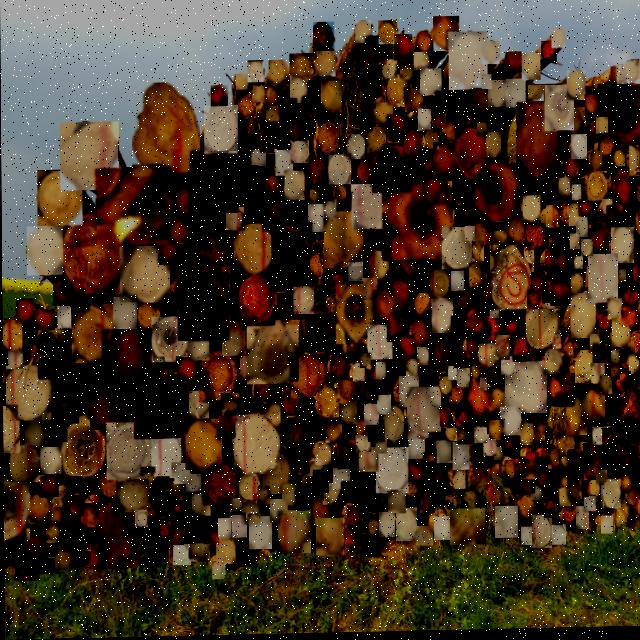wood-log: (132, 84, 200, 176), (96, 168, 171, 245), (382, 183, 452, 262), (62, 214, 123, 296), (61, 122, 117, 191), (179, 271, 228, 341), (102, 330, 154, 393), (135, 375, 186, 439), (247, 321, 297, 385), (91, 503, 137, 569), (517, 105, 557, 178), (490, 247, 534, 312), (271, 224, 312, 293), (192, 153, 238, 214), (120, 247, 170, 303), (61, 416, 105, 479), (598, 88, 640, 154), (234, 416, 280, 476), (106, 423, 150, 480), (71, 305, 114, 363), (474, 167, 518, 223), (37, 171, 82, 225), (6, 366, 50, 421), (336, 286, 375, 344), (192, 217, 233, 272), (449, 34, 486, 92), (324, 213, 362, 269), (505, 364, 545, 416), (234, 225, 272, 276), (372, 145, 411, 194), (200, 352, 237, 402), (406, 389, 441, 441), (185, 420, 221, 470), (239, 276, 274, 327), (455, 129, 487, 183), (27, 227, 63, 274), (152, 318, 188, 363), (3, 478, 29, 540), (204, 107, 238, 154), (291, 354, 325, 400), (526, 306, 559, 352), (203, 463, 238, 506), (61, 360, 95, 404), (351, 186, 384, 231), (375, 449, 408, 494), (588, 257, 618, 306), (277, 512, 310, 555), (442, 229, 475, 271), (545, 87, 574, 133), (90, 387, 121, 430), (151, 436, 180, 479), (450, 511, 484, 547), (117, 476, 150, 513), (306, 316, 335, 357), (9, 445, 39, 483), (571, 295, 595, 341), (263, 455, 290, 494), (611, 171, 636, 212), (60, 518, 91, 550), (603, 431, 629, 469), (316, 519, 342, 556), (615, 394, 640, 432), (429, 337, 455, 372), (367, 326, 392, 361), (2, 406, 20, 452), (464, 384, 487, 420), (382, 408, 405, 443), (582, 393, 605, 428), (113, 297, 138, 329), (433, 146, 457, 179), (611, 230, 633, 266), (548, 377, 574, 407), (431, 300, 453, 335), (248, 518, 271, 551), (583, 447, 604, 483), (175, 189, 198, 221), (434, 19, 457, 51), (494, 508, 517, 540), (222, 324, 244, 357), (566, 400, 585, 438), (282, 418, 305, 449), (262, 203, 286, 232), (316, 123, 337, 156), (389, 283, 412, 313), (328, 156, 350, 186), (575, 353, 595, 386), (396, 511, 416, 543), (238, 474, 260, 503), (29, 494, 50, 524), (321, 83, 342, 113), (306, 159, 326, 190), (398, 378, 418, 409), (387, 76, 407, 107), (424, 178, 445, 207), (137, 304, 160, 330), (44, 413, 66, 440), (532, 518, 550, 551), (551, 277, 570, 308), (98, 470, 119, 498), (293, 288, 314, 316), (365, 39, 386, 67), (500, 409, 521, 437), (369, 253, 389, 282), (373, 293, 393, 322), (600, 482, 620, 511), (420, 71, 442, 97), (502, 311, 524, 337), (281, 390, 300, 420), (290, 55, 311, 82), (512, 337, 533, 364), (246, 186, 266, 214), (506, 82, 526, 110), (2, 320, 20, 351), (14, 557, 38, 580), (32, 329, 54, 354), (237, 159, 258, 185), (479, 319, 500, 345), (26, 532, 46, 559), (24, 419, 44, 446), (216, 538, 236, 565), (177, 358, 197, 385), (319, 389, 337, 419), (357, 375, 377, 402), (430, 272, 450, 299), (426, 465, 446, 492), (588, 174, 606, 204), (40, 448, 61, 473), (189, 391, 207, 420), (285, 172, 303, 201), (396, 337, 414, 366), (567, 73, 585, 102), (314, 24, 333, 51), (362, 487, 381, 514), (254, 377, 272, 405), (358, 449, 378, 474), (303, 98, 322, 124), (308, 205, 325, 234), (338, 443, 356, 470), (405, 133, 423, 160), (57, 305, 77, 329), (158, 241, 178, 265), (452, 444, 469, 472), (489, 390, 506, 418), (506, 217, 523, 245), (592, 226, 609, 254), (170, 219, 189, 244), (275, 151, 293, 177), (522, 56, 540, 82), (525, 226, 543, 252), (40, 357, 61, 379), (189, 338, 209, 361), (269, 62, 288, 86), (478, 346, 497, 370), (16, 299, 34, 324), (367, 129, 385, 154), (394, 37, 412, 62), (488, 83, 506, 108), (522, 198, 540, 223), (612, 321, 628, 349), (472, 91, 489, 117), (53, 282, 72, 305), (167, 499, 186, 522), (326, 272, 345, 295), (261, 126, 277, 153), (347, 136, 365, 160), (387, 119, 405, 143), (544, 179, 560, 206), (240, 357, 257, 382), (290, 80, 307, 105), (329, 356, 346, 381), (184, 521, 203, 543), (412, 322, 428, 348), (55, 546, 73, 569), (269, 501, 287, 524), (264, 404, 282, 427), (291, 142, 309, 165), (317, 53, 334, 77), (356, 161, 373, 185), (34, 310, 54, 330), (235, 548, 255, 568), (313, 501, 329, 526), (378, 513, 394, 538), (467, 310, 483, 335), (545, 351, 561, 376), (571, 137, 587, 162), (39, 476, 58, 497), (387, 493, 405, 515), (238, 96, 255, 119), (280, 100, 297, 123), (387, 319, 403, 343), (154, 520, 172, 541), (191, 495, 209, 516), (405, 91, 423, 112), (264, 174, 279, 199), (469, 266, 484, 291), (71, 290, 88, 312), (380, 24, 397, 46), (81, 504, 97, 527), (243, 502, 259, 525), (408, 461, 424, 484), (355, 22, 371, 45), (483, 43, 499, 66), (414, 295, 430, 318), (434, 519, 450, 542), (606, 209, 622, 232), (190, 542, 208, 562), (344, 529, 362, 549), (568, 111, 583, 135), (332, 470, 349, 491), (408, 440, 425, 461), (376, 105, 393, 126), (621, 309, 638, 330), (226, 209, 242, 231), (338, 381, 354, 403), (415, 33, 431, 55), (310, 256, 325, 279), (486, 135, 501, 158), (615, 374, 630, 397), (49, 507, 67, 526), (218, 418, 235, 438), (211, 87, 228, 107), (174, 464, 190, 485), (346, 507, 360, 531), (341, 402, 355, 426), (368, 422, 384, 443), (551, 233, 567, 254), (313, 472, 328, 494), (436, 443, 451, 465), (597, 314, 612, 336), (568, 477, 581, 502), (221, 396, 238, 415), (397, 262, 414, 281), (455, 208, 469, 231), (475, 226, 489, 249), (410, 276, 424, 299), (495, 338, 509, 361), (38, 558, 58, 574), (62, 404, 78, 424), (173, 545, 189, 565), (323, 485, 339, 505), (416, 528, 432, 548), (179, 254, 194, 275), (248, 63, 263, 84), (266, 107, 281, 128), (315, 445, 330, 466), (423, 131, 438, 152), (419, 493, 434, 514), (562, 503, 575, 527), (282, 485, 296, 507), (592, 430, 609, 448), (325, 423, 341, 442), (68, 496, 83, 516), (506, 54, 521, 74), (455, 410, 470, 430), (448, 387, 463, 407), (527, 292, 542, 312), (361, 536, 374, 559), (170, 274, 184, 295), (363, 280, 377, 301), (519, 498, 533, 519), (556, 253, 570, 274), (7, 351, 23, 369), (232, 517, 245, 539), (483, 437, 496, 459), (520, 426, 533, 448), (627, 63, 640, 85), (46, 524, 61, 543), (541, 44, 556, 63), (504, 463, 519, 482), (607, 302, 622, 321), (376, 396, 390, 416), (531, 275, 545, 295), (342, 483, 355, 504), (364, 406, 377, 427), (418, 111, 431, 132), (419, 368, 432, 389), (566, 340, 579, 361), (565, 159, 578, 180), (525, 463, 541, 480), (153, 491, 168, 509), (185, 475, 200, 493), (382, 62, 397, 80), (420, 155, 434, 174), (551, 528, 565, 547), (480, 284, 494, 303), (600, 140, 614, 159), (624, 290, 638, 309), (171, 524, 183, 546), (295, 492, 308, 512), (630, 466, 640, 492), (528, 88, 544, 104), (203, 527, 218, 544), (348, 265, 363, 282), (354, 473, 369, 490), (355, 437, 370, 454), (443, 126, 458, 143), (576, 509, 587, 532), (569, 206, 580, 229), (472, 244, 484, 265), (501, 359, 515, 377), (617, 68, 629, 89), (630, 148, 638, 179), (452, 472, 465, 491), (251, 151, 266, 167), (265, 87, 277, 107), (451, 273, 463, 293), (571, 276, 583, 296), (141, 468, 155, 485), (294, 457, 308, 474), (551, 32, 565, 49), (489, 423, 503, 440), (333, 186, 346, 204), (360, 114, 373, 132), (538, 473, 551, 491), (594, 348, 607, 366), (170, 482, 182, 501), (435, 95, 447, 114), (439, 379, 451, 398), (586, 98, 598, 117), (134, 511, 147, 528), (414, 55, 427, 72), (400, 67, 413, 84), (580, 242, 593, 259), (433, 114, 444, 134), (457, 370, 468, 390), (467, 340, 478, 360), (546, 208, 557, 228), (593, 366, 604, 386), (218, 520, 230, 538), (291, 124, 303, 142), (416, 349, 428, 367), (440, 410, 452, 428), (568, 452, 580, 470), (575, 221, 587, 239), (590, 154, 602, 172), (309, 463, 323, 478), (354, 421, 367, 437), (342, 426, 355, 442), (458, 296, 471, 312), (445, 427, 458, 443), (557, 134, 566, 157), (451, 318, 463, 335), (406, 361, 418, 378), (548, 452, 560, 469), (514, 459, 524, 479), (374, 234, 385, 252), (366, 518, 377, 536), (423, 455, 434, 473), (534, 426, 545, 444), (601, 518, 612, 536), (579, 201, 590, 219), (610, 70, 621, 88), (600, 379, 611, 397), (612, 154, 625, 169), (236, 75, 248, 91), (324, 203, 336, 219), (522, 480, 534, 496), (489, 370, 501, 386), (502, 438, 514, 454), (535, 449, 547, 465), (596, 120, 608, 136), (353, 366, 364, 383), (559, 492, 570, 509), (453, 353, 464, 370), (588, 484, 599, 501), (559, 181, 570, 198), (66, 478, 81, 490), (157, 477, 169, 492), (474, 430, 486, 445), (606, 398, 618, 413), (620, 457, 632, 472), (212, 564, 223, 580), (258, 489, 269, 505), (253, 88, 264, 104), (375, 439, 386, 455), (457, 430, 468, 446), (470, 366, 481, 382), (545, 501, 554, 520), (155, 358, 165, 375), (545, 252, 555, 269), (466, 291, 477, 306), (376, 363, 385, 381), (521, 529, 530, 547), (622, 476, 631, 494), (629, 357, 637, 377), (229, 500, 242, 512), (583, 500, 595, 513), (634, 262, 640, 288), (595, 473, 606, 487), (526, 451, 535, 468), (482, 77, 492, 92), (429, 436, 439, 451), (624, 432, 634, 447), (494, 234, 506, 246), (570, 236, 579, 252), (287, 313, 298, 326), (489, 306, 499, 320), (571, 188, 581, 202), (602, 202, 612, 216), (634, 335, 640, 358), (590, 337, 598, 354), (360, 355, 369, 370), (465, 228, 474, 243), (610, 352, 619, 367), (629, 381, 638, 396), (530, 490, 541, 502), (447, 369, 458, 381), (512, 482, 522, 495), (556, 199, 566, 212), (489, 467, 499, 479), (493, 450, 503, 462), (561, 478, 571, 490), (561, 129, 571, 141), (147, 509, 156, 522), (477, 125, 486, 138), (310, 190, 318, 204), (559, 459, 568, 471), (611, 367, 618, 382), (302, 475, 310, 488), (480, 380, 488, 393), (584, 446, 592, 459), (574, 259, 582, 272), (592, 80, 600, 93), (619, 272, 626, 285), (347, 343, 354, 354)
